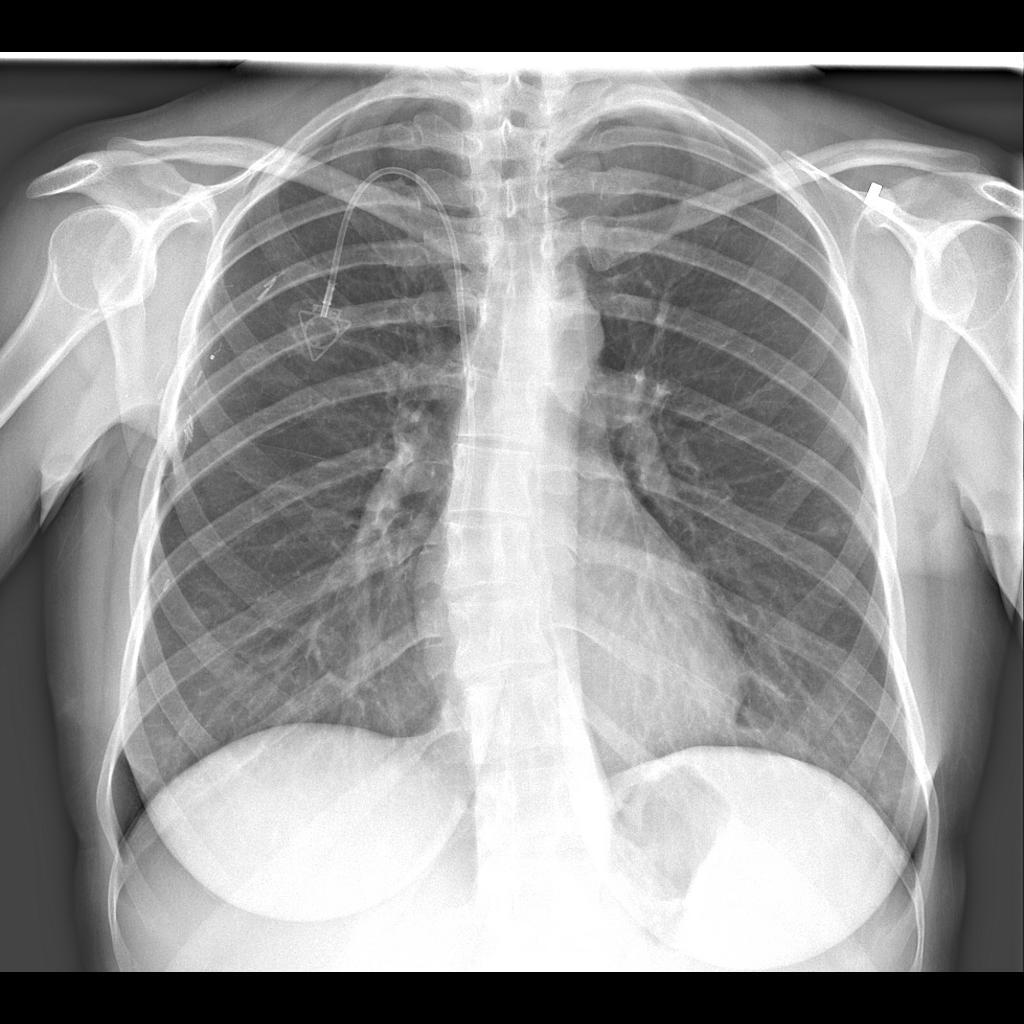Nodule: (805, 507, 866, 562)
